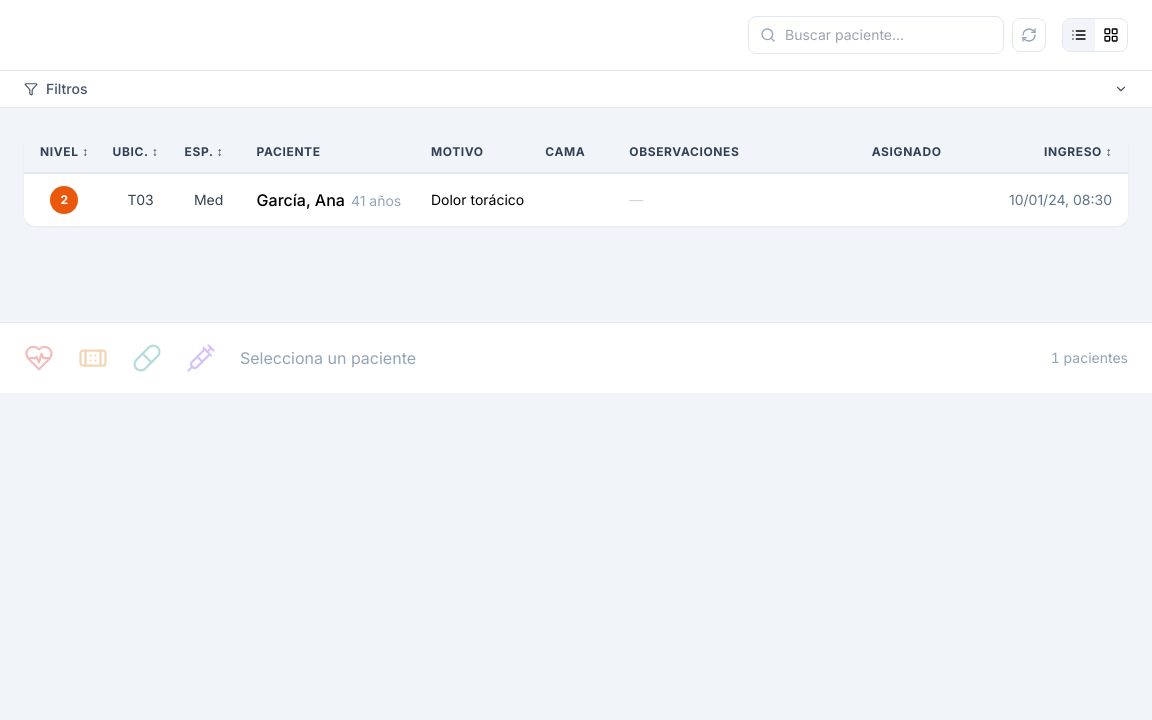
Test case: Empty locations feature › shows empty location rows when checkbox is checked
Expected: the text "García, Ana" is shown, x1=241 y1=173 x2=419 y2=226
Click the button "Filtros". click: [67, 88]
box: x1=0 y1=71 x2=1151 y2=107
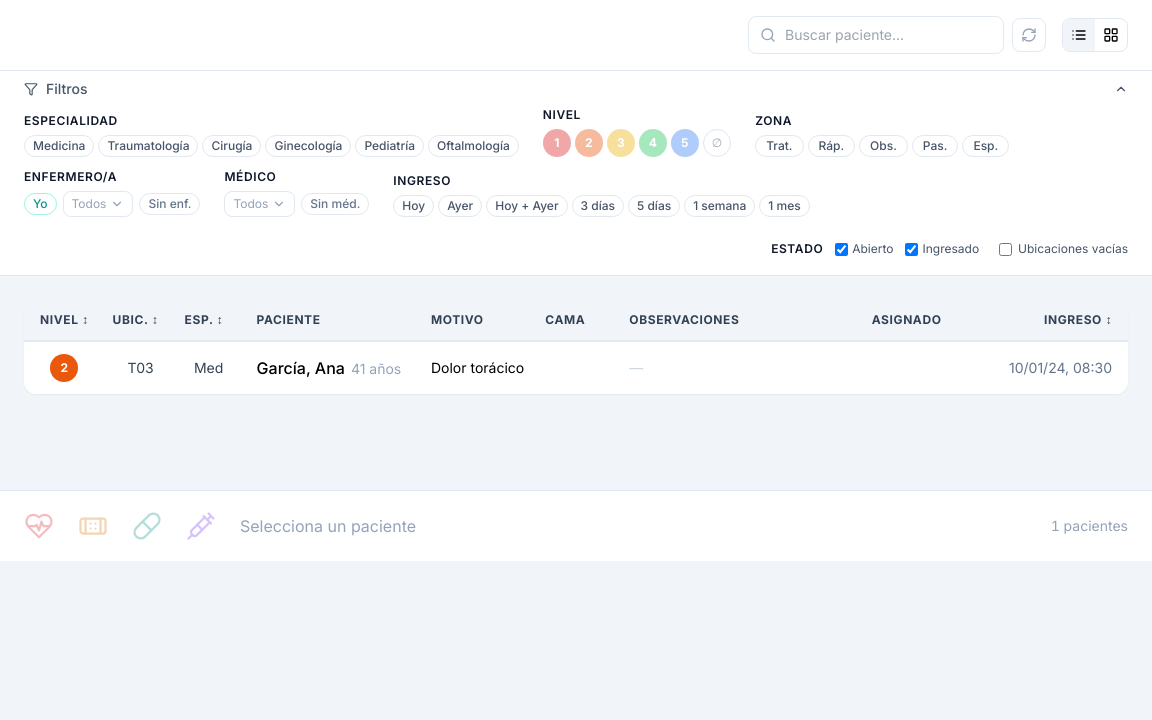
Click the checkbox with test id "show-empty-locations". click: [1006, 249]
box: x1=999 y1=242 x2=1012 y2=256
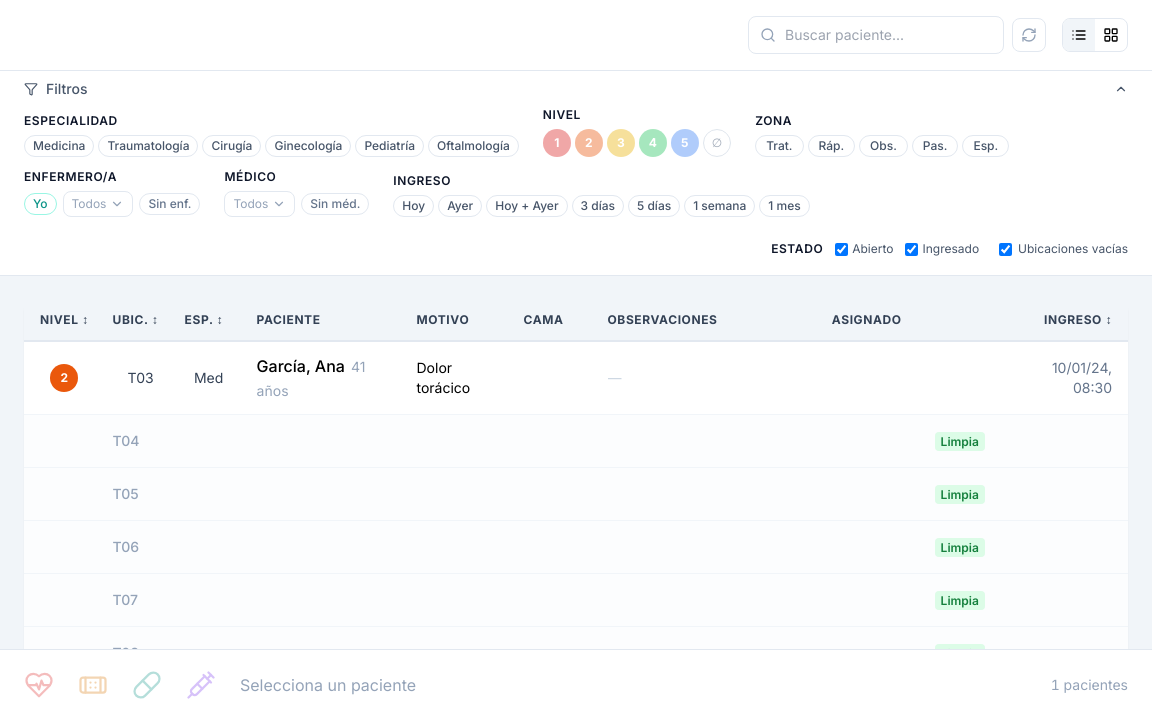
Expected: the row with test id "empty-location-row" showing "T04 Limpia" is shown, x1=24 y1=414 x2=1128 y2=468
